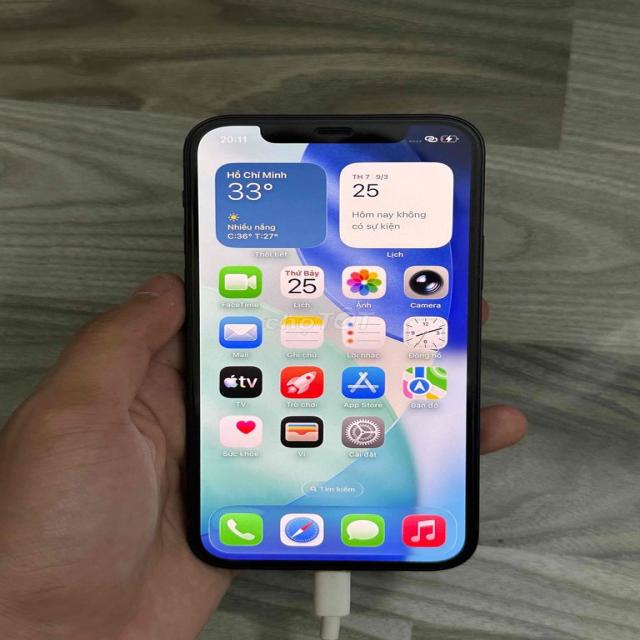gen_12_13: (175, 101, 496, 584)
